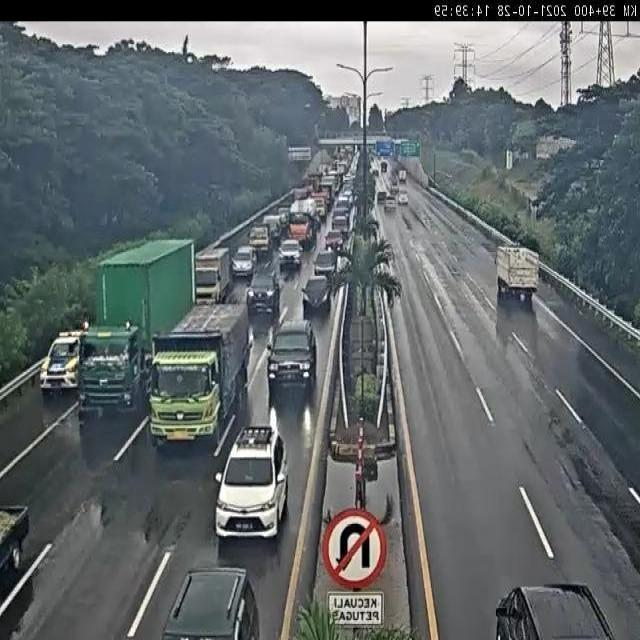Car: (212, 426, 293, 556), (163, 565, 262, 640), (494, 585, 609, 640), (266, 320, 315, 398), (38, 328, 85, 392), (245, 274, 278, 320), (301, 276, 332, 319), (233, 246, 259, 276), (314, 250, 339, 279), (248, 224, 269, 258), (280, 238, 302, 270), (324, 232, 344, 248), (331, 214, 349, 231), (398, 189, 410, 208), (385, 197, 396, 211), (377, 191, 387, 204)
Truck: (83, 240, 197, 413), (149, 303, 251, 455), (494, 244, 540, 298), (194, 244, 232, 302), (286, 200, 320, 247)
